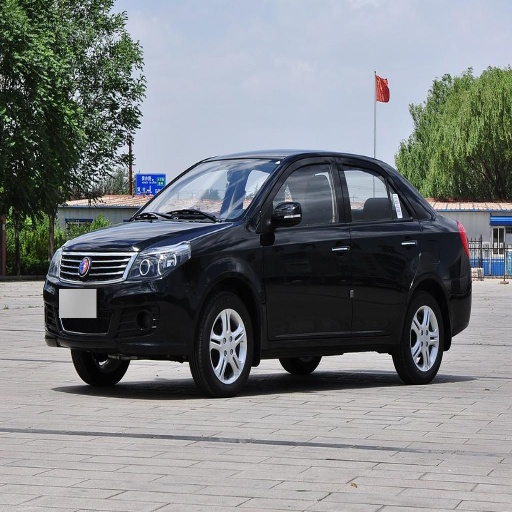back_left_door: (340, 158, 428, 330)
front_bumper: (43, 246, 200, 356)
front_glass: (132, 160, 278, 219)
front_left_door: (263, 157, 352, 337)
